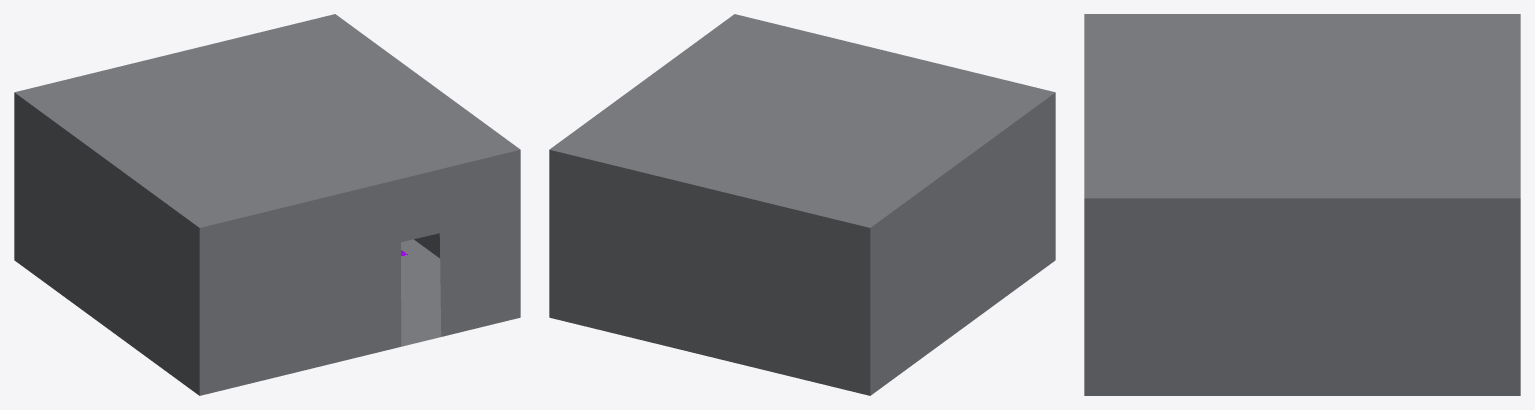
The picture shows the model from 3 angles, left to right: view 1: azimuth 30°, elevation 25°; view 2: azimuth 150°, elevation 25°; view 3: azimuth 270°, elevation 25°; orthographic projection. The views are drawn at different scales.
Visible parts, largest first — view 1: mesh; view 2: mesh; view 3: mesh.
Boxes of the visible parts, x1=… form: mesh: x1=14, y1=14, x2=520, y2=395; mesh: x1=549, y1=14, x2=1055, y2=395; mesh: x1=1084, y1=14, x2=1520, y2=395.
Size of the model in its own units: 1 by 0.5 by 1.
Materials: 1 (1 with a texture image).
